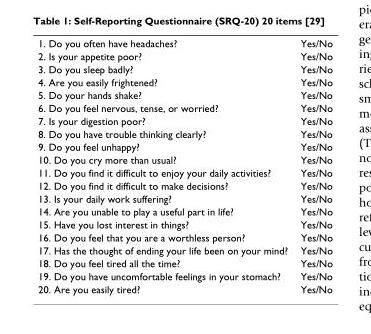table: (37, 36, 331, 294)
table column: (37, 36, 293, 294), (293, 36, 331, 294)
table row: (37, 36, 331, 49), (37, 49, 331, 62), (37, 62, 331, 75), (37, 75, 331, 88), (37, 88, 331, 101), (37, 101, 331, 114), (37, 126, 331, 139), (37, 139, 331, 152), (37, 152, 331, 165), (37, 165, 331, 178), (37, 178, 331, 191), (37, 191, 331, 204), (37, 204, 331, 217), (37, 217, 331, 230), (37, 230, 331, 243), (37, 243, 331, 256), (37, 256, 331, 269), (37, 269, 331, 282), (37, 114, 331, 126), (37, 282, 331, 294)
